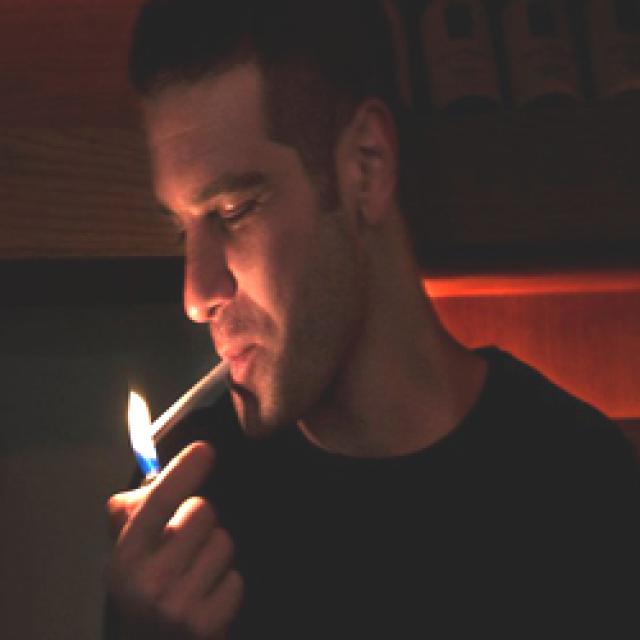Smooking: (107, 342, 240, 465)
